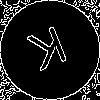K: (25, 25, 74, 80)
